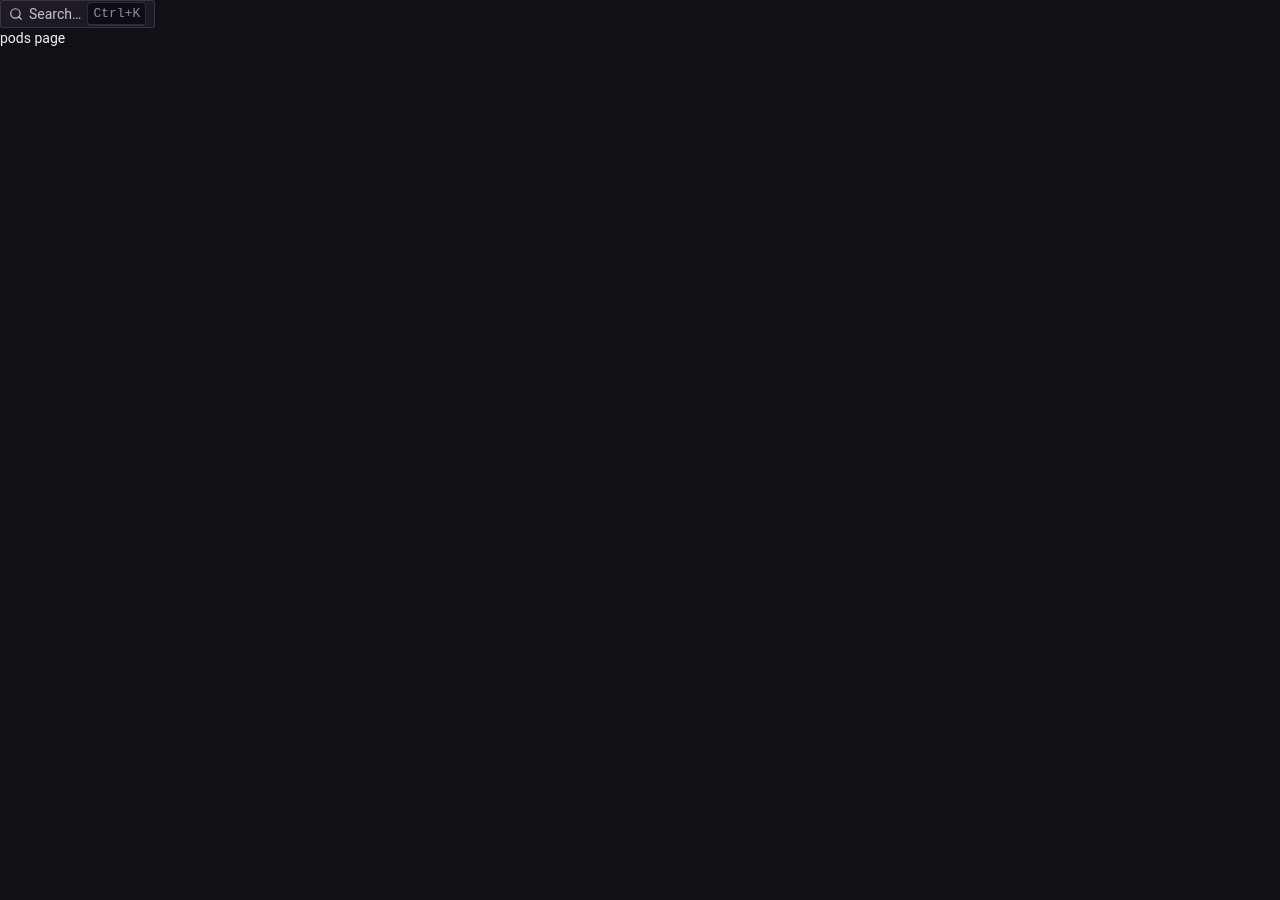
Test: command center local resource search (F5-06) › resolves resource entries only when the palette opens and navigates on Enter
Press k
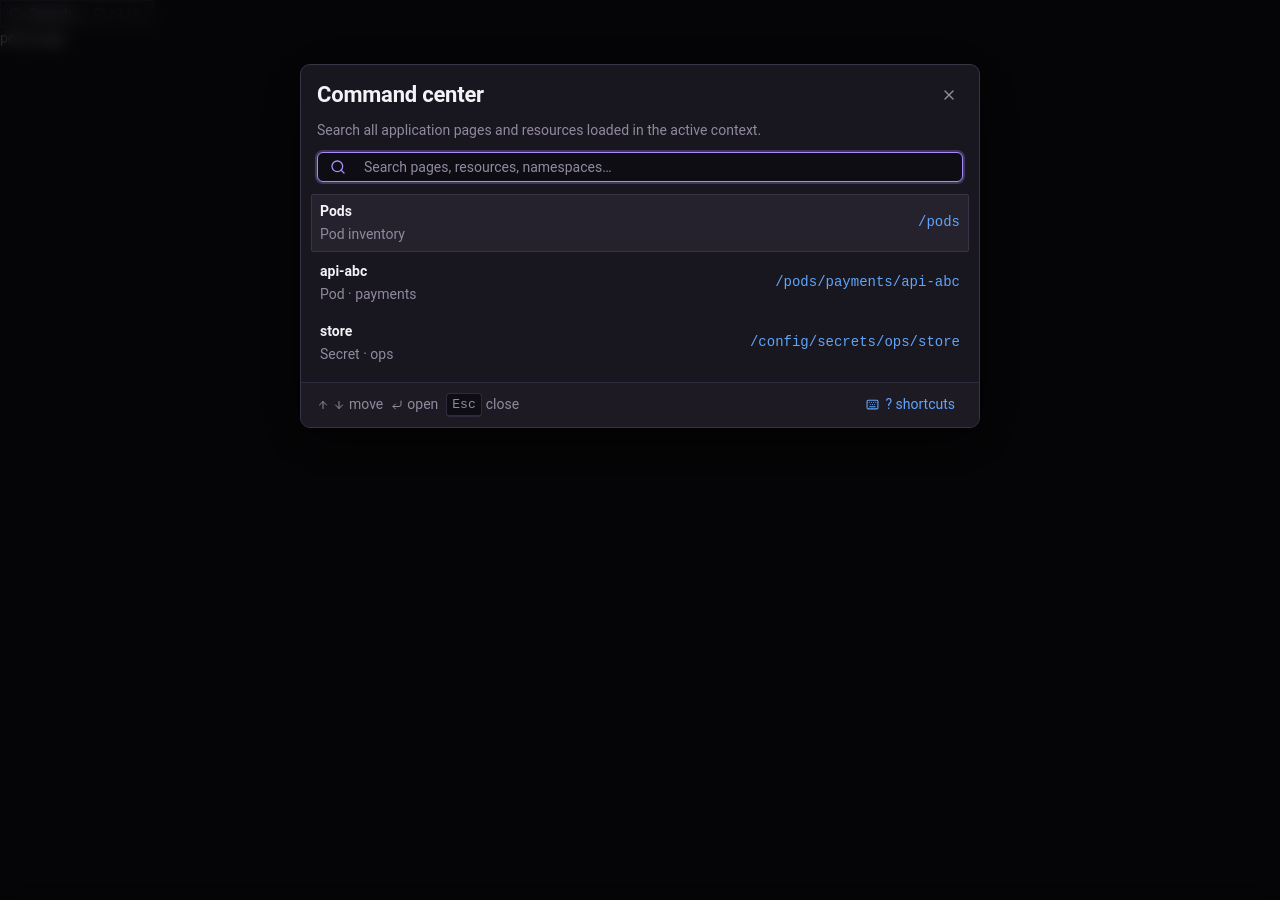
Expected: the text "resources loaded in the active context" is shown, 317,122 -> 761,138
Type "api-abc" into the dropdown named "Search pages and resources" at point(653, 167), box 356,153 -> 950,181
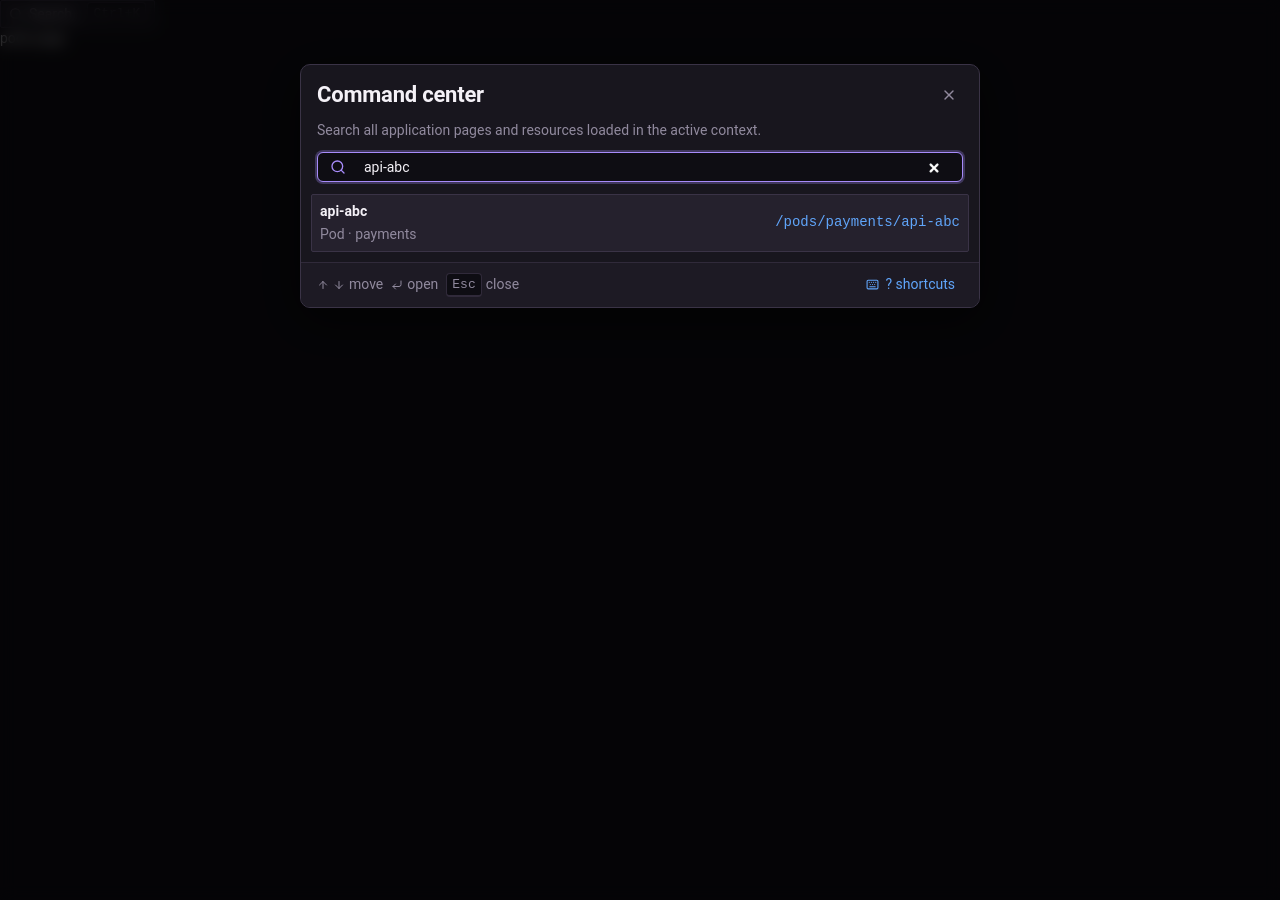
Expected: the option "api-abc Pod · payments /pods/payments/api-abc" is selected, 311,194 -> 969,252
Press Enter in the dropdown named "Search pages and resources", box 356,153 -> 950,181
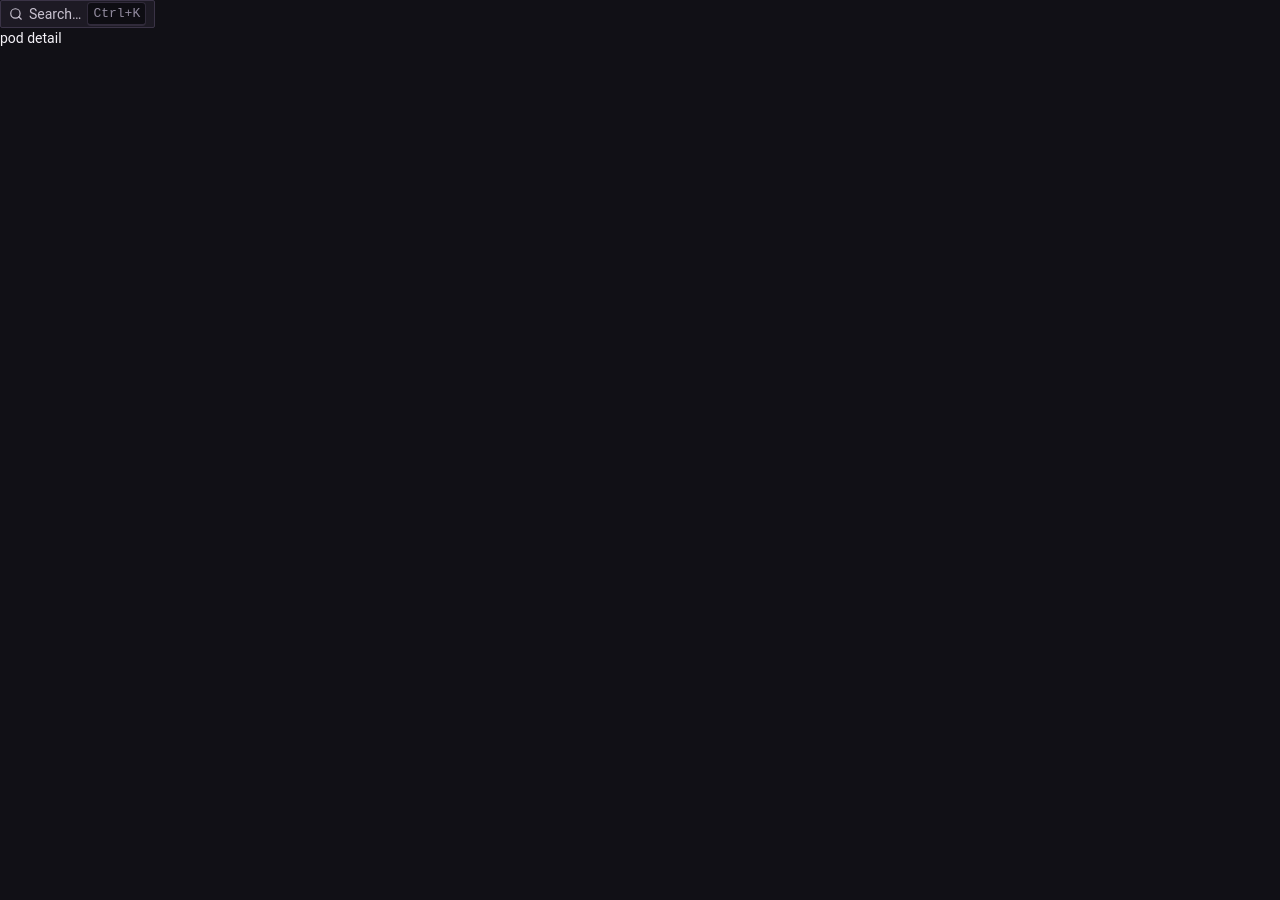
Expected: the text "pod detail" is shown, 0,30 -> 62,46
